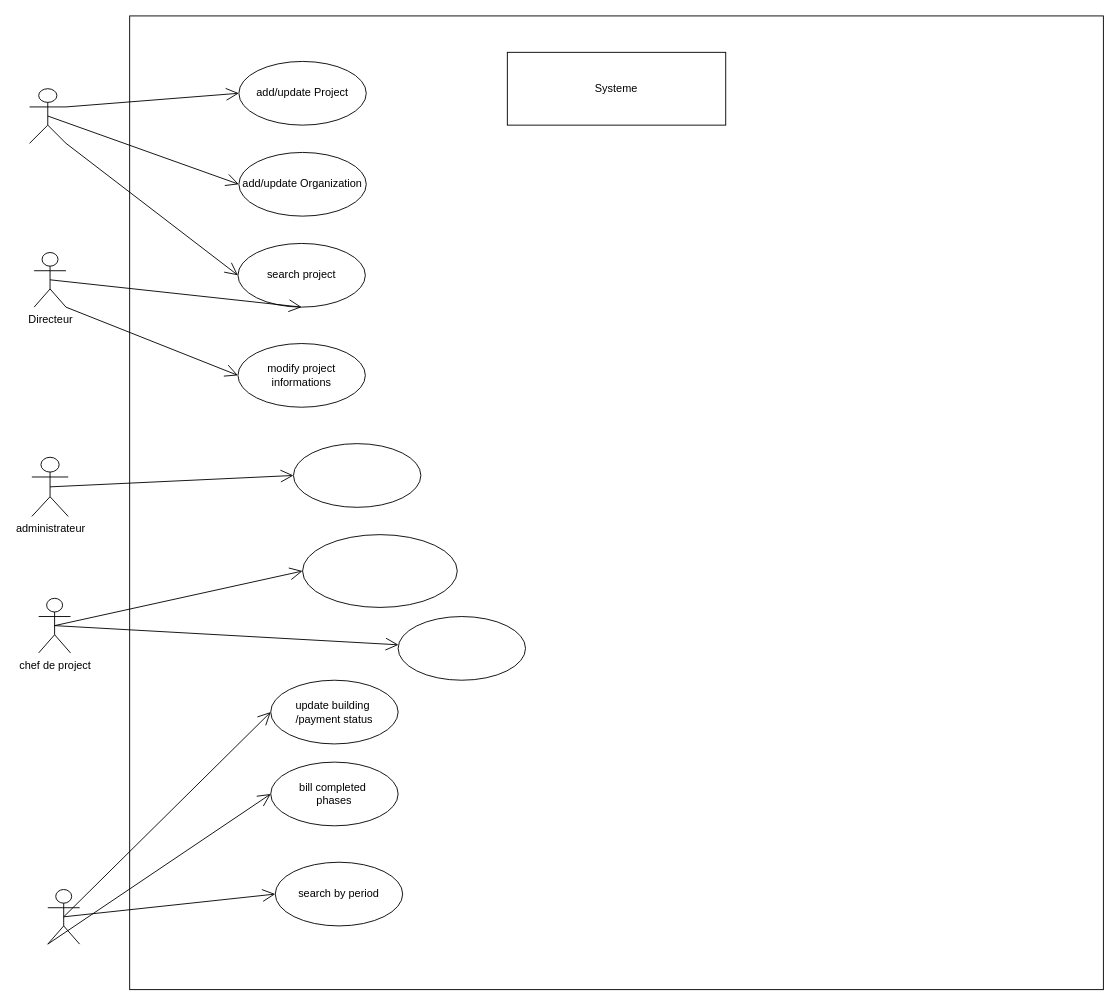
This 1119x1006 diagram has some shape labels left out. Here are the shapes that lost their labels. From the top down, the centre of each, then its label:
At point 47,115: "Secrutary".
At point 357,475: "add/Update/delete users".
At point 379,570: "break project into phases".
At point 461,648: "update phase deliverables".
At point 63,916: "comptable".
